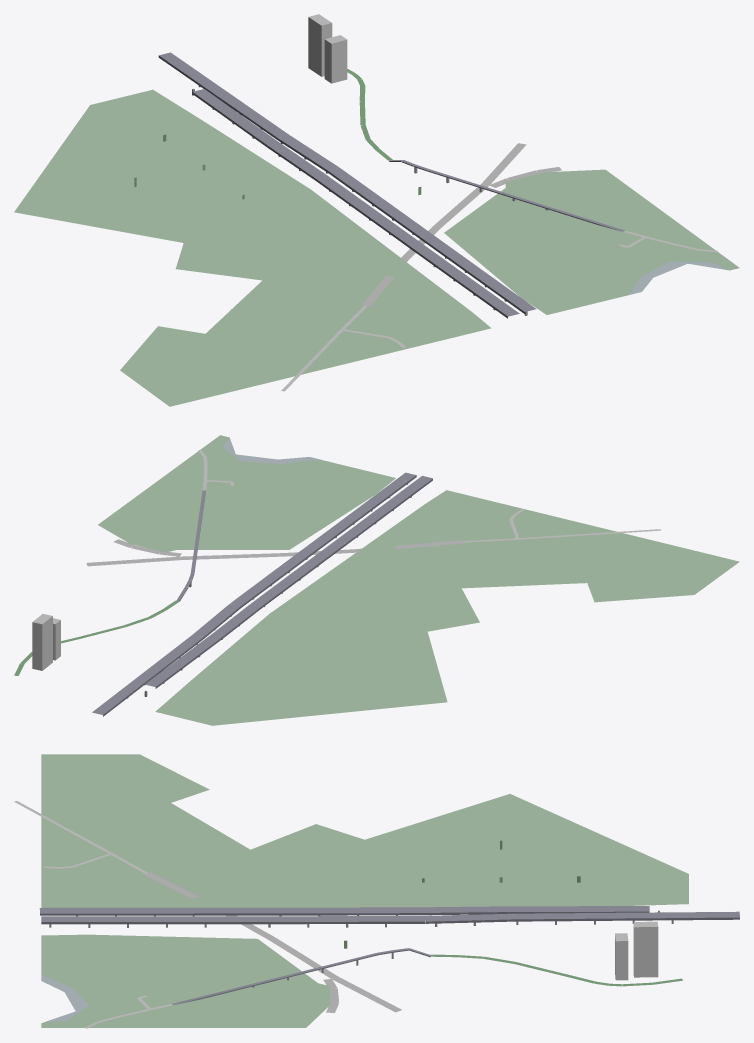
3 views of the same model, one above another, from view 1: azimuth 30°, elevation 25°; view 2: azimuth 150°, elevation 25°; view 3: azimuth 270°, elevation 25° (orthographic). The views are drawn at different scales.
Size of the model in its own units: 501 by 43.42 by 561.
